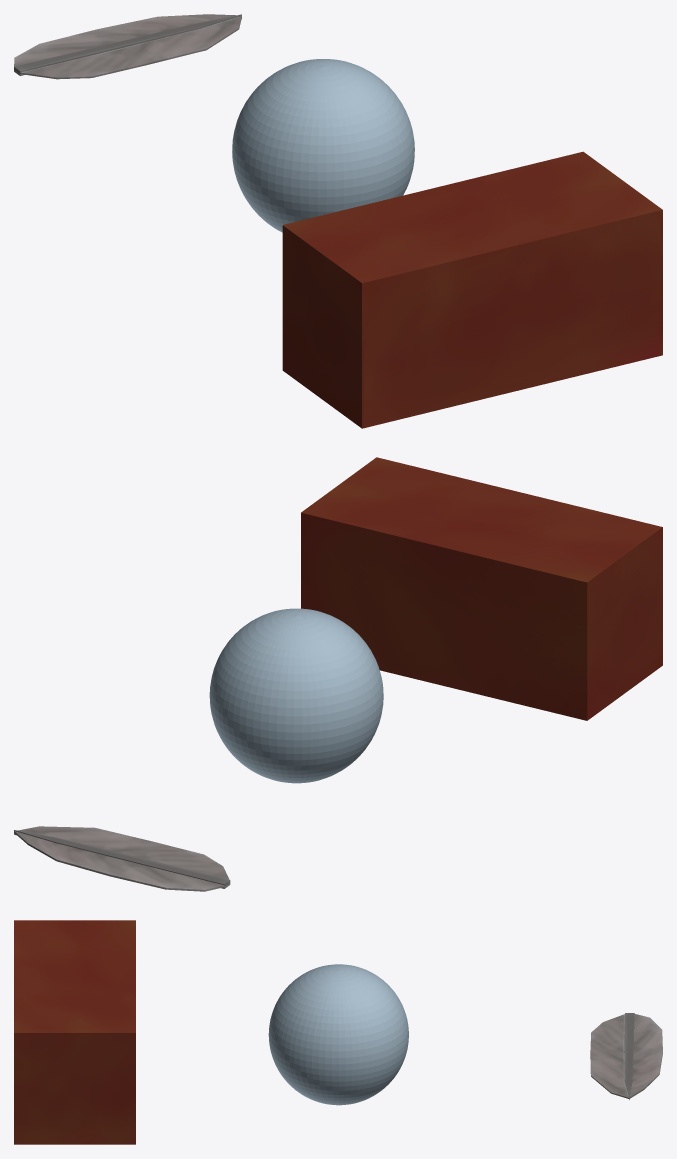
The picture shows the model from 3 angles, top to bottom: view 1: azimuth 30°, elevation 25°; view 2: azimuth 150°, elevation 25°; view 3: azimuth 270°, elevation 25°; orthographic projection. The views are drawn at different scales.
Visible parts, largest first — view 1: brick, ball, feather; view 2: brick, ball, feather; view 3: brick, ball, feather.
Part boxes in pixels (x1=…): brick: x1=282, y1=151, x2=662, y2=428; ball: x1=232, y1=59, x2=414, y2=232; feather: x1=14, y1=14, x2=241, y2=79; brick: x1=301, y1=457, x2=662, y2=720; ball: x1=209, y1=608, x2=383, y2=783; feather: x1=14, y1=826, x2=230, y2=891; brick: x1=14, y1=920, x2=135, y2=1144; ball: x1=268, y1=964, x2=408, y2=1105; feather: x1=590, y1=1013, x2=662, y2=1099.
Bounding box in the file's own units: 244 × 130 × 595.
Materials: 3 (2 with a texture image).
